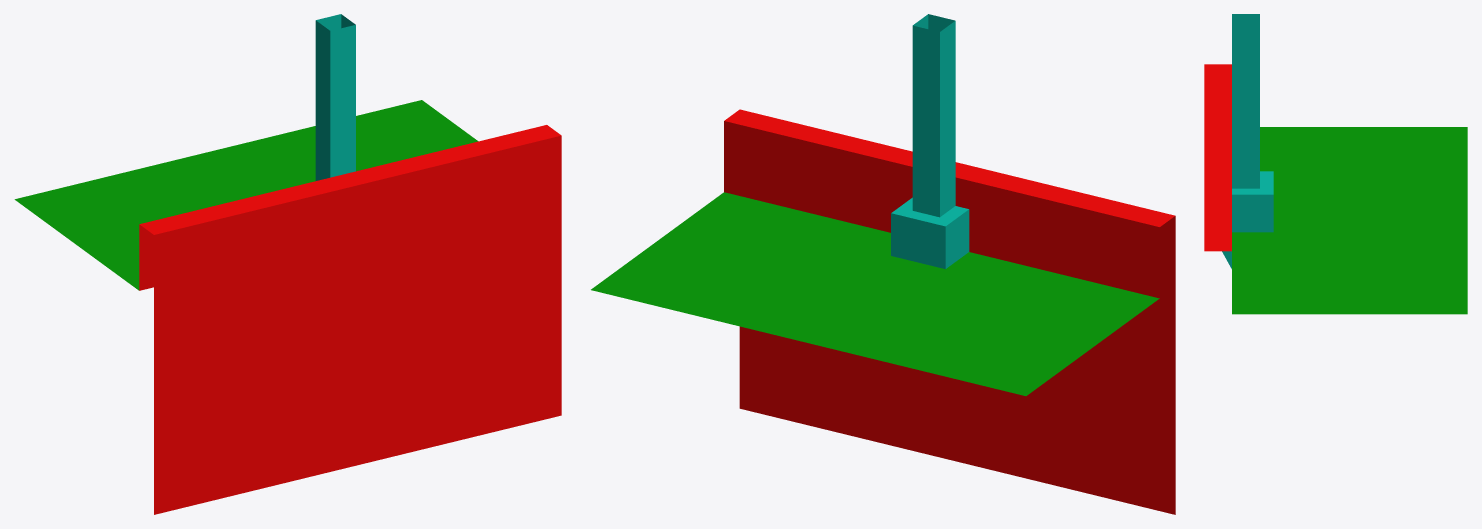
The model's file is None_W_E_E_E_W_E_E_E_BigStrut.fbx.
3 views of the same model, side by side, from view 1: azimuth 30°, elevation 25°; view 2: azimuth 150°, elevation 25°; view 3: azimuth 270°, elevation 25° (orthographic). The views are drawn at different scales.
Parts seen in each view (by area): view 1: None_W_E_E_E_W_E_E_E_BigStrut; view 2: None_W_E_E_E_W_E_E_E_BigStrut; view 3: None_W_E_E_E_W_E_E_E_BigStrut.
Boxes of the visible parts, left/top/right/bottom form: None_W_E_E_E_W_E_E_E_BigStrut: left=14, top=14, right=561, bottom=514; None_W_E_E_E_W_E_E_E_BigStrut: left=591, top=14, right=1175, bottom=514; None_W_E_E_E_W_E_E_E_BigStrut: left=1204, top=14, right=1467, bottom=314.
Bounding box in the file's own units: 100 × 100 × 59.38.
